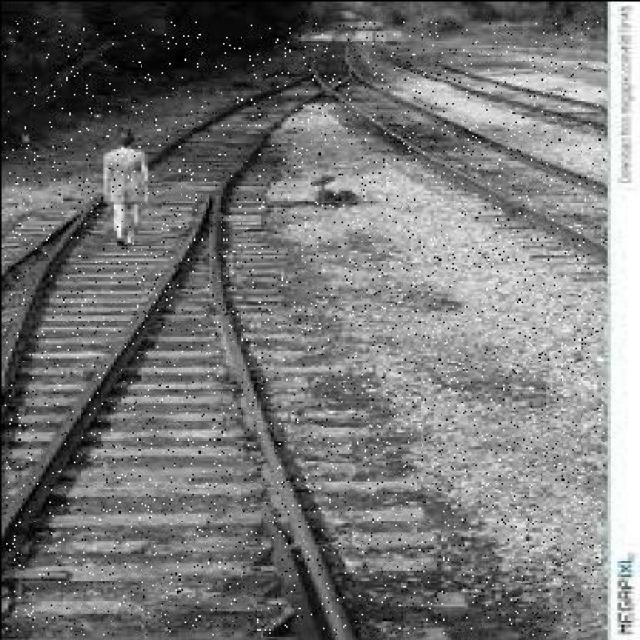danger: (89, 129, 160, 245)
rail: (3, 18, 603, 634)
